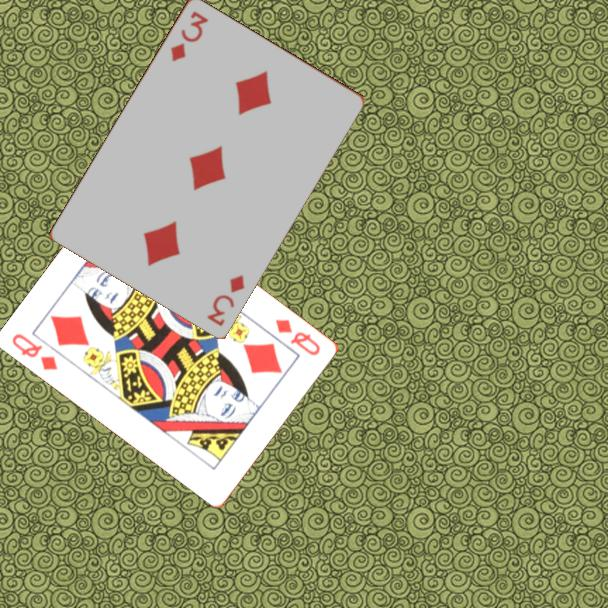d03: (203, 271, 247, 329), (167, 7, 211, 64)
d12: (272, 315, 324, 359), (9, 330, 61, 373)
